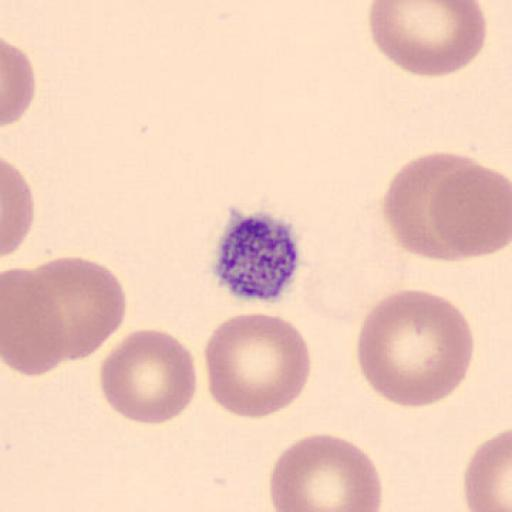Platelet: (209, 207, 306, 305)
RBC: (356, 287, 476, 408), (381, 150, 506, 263), (203, 310, 312, 420), (28, 254, 128, 362), (99, 328, 198, 427), (382, 157, 471, 263), (367, 1, 489, 78), (268, 431, 383, 512), (429, 155, 511, 260), (2, 268, 69, 378), (463, 427, 512, 511), (2, 157, 35, 259), (2, 37, 36, 128)
